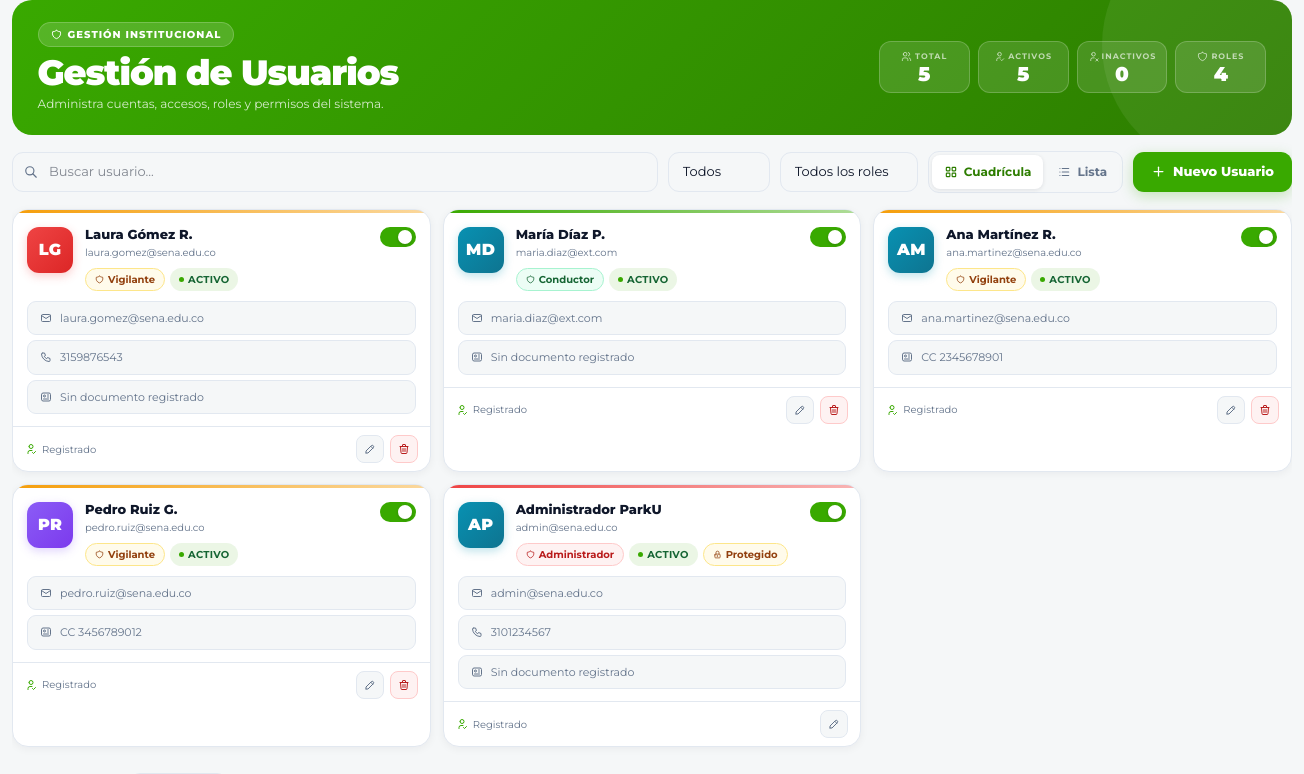
Test case: Usuarios › filtra la lista al escribir en el buscador
The width and height of the screenshot is (1304, 774).
Expected: the text "Ana Martínez R." is shown, [946,226,1056,242]
In the field named "Buscar usuarios": (335, 172) [12,152,658,192], type "ana.martinez"
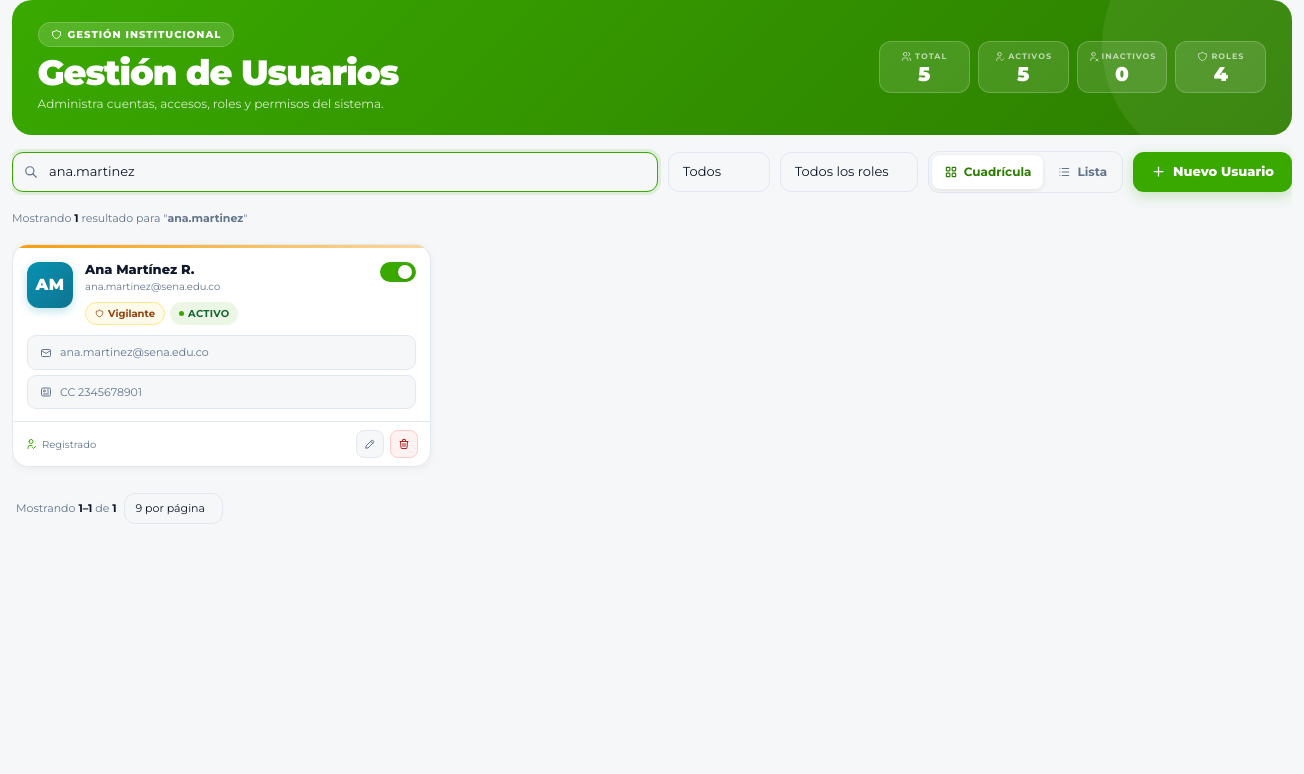
Expected: the text "Ana Martínez R." is shown, [85,261,194,277]
Result: the text "María Díaz P." is gone
